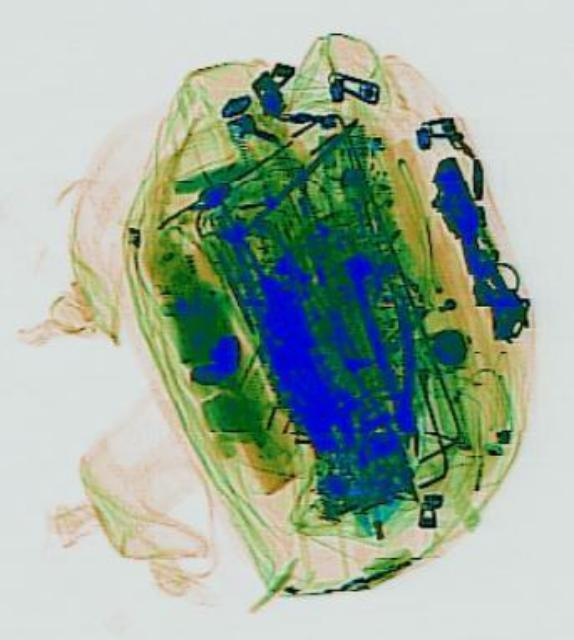Pliers: (350, 260, 425, 432)
